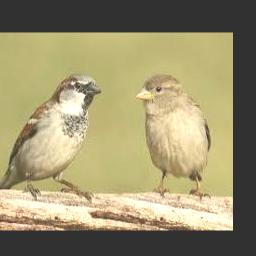Sparrow: (0, 73, 101, 200), (134, 74, 211, 201)
